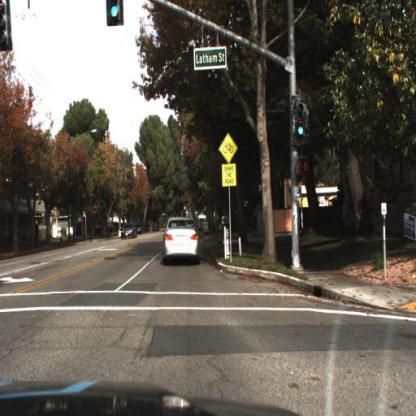car: (162, 215, 207, 270), (120, 222, 142, 245)
trafficLight-Green: (294, 100, 309, 143)
